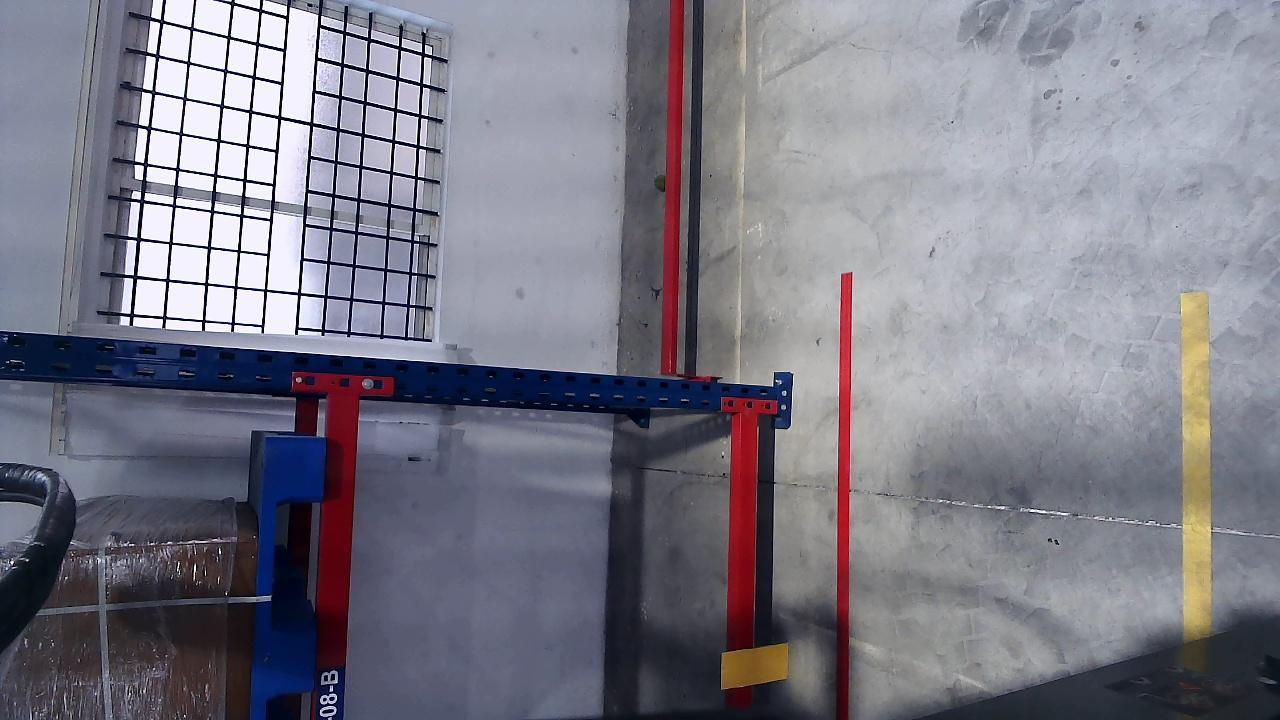h_rack: (312, 392, 361, 719), (728, 412, 761, 710)
orange_strip: (720, 642, 788, 689)
red_line: (834, 271, 854, 713)
small_pallet: (247, 431, 324, 719)
yellow_line: (1181, 298, 1213, 635)
